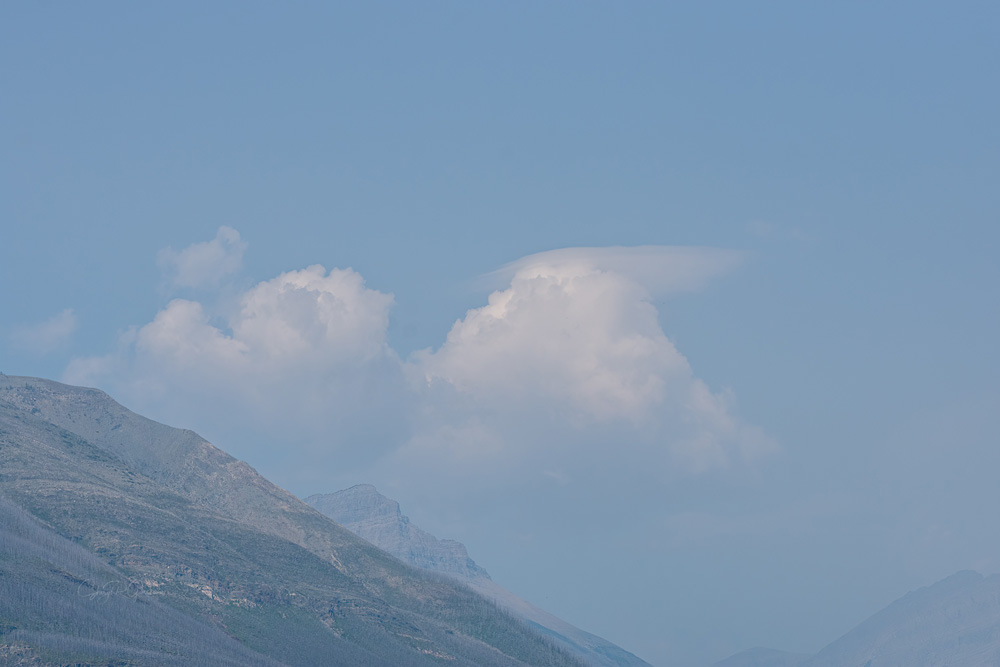Cumulus: (415, 253, 772, 515), (103, 209, 425, 485)
